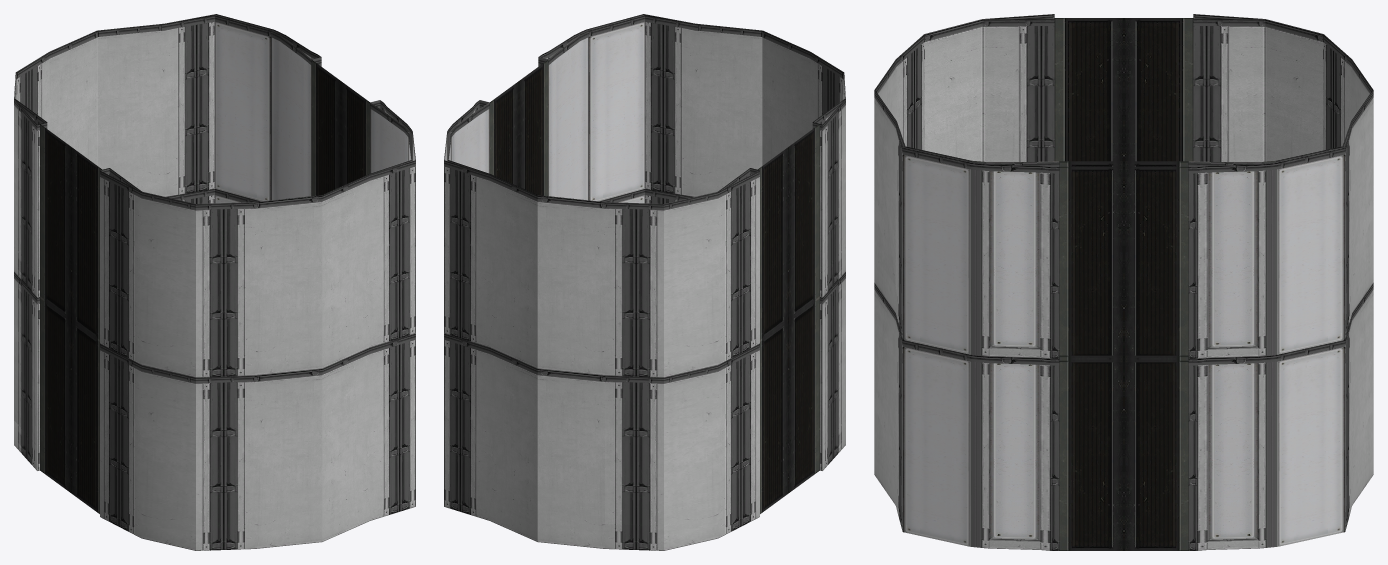
The model's file is Pre_Elevator_entb02_LOW.FBX.
3 renders of one model, left to right at view 1: azimuth 30°, elevation 25°; view 2: azimuth 150°, elevation 25°; view 3: azimuth 270°, elevation 25°, orthographic. The views are drawn at different scales.
Visible parts, largest first — view 1: Pre_Elevator_entb02_LOW; view 2: Pre_Elevator_entb02_LOW; view 3: Pre_Elevator_entb02_LOW.
Part boxes in pixels (x1,y1,x2,y2): Pre_Elevator_entb02_LOW: [14, 14, 415, 550]; Pre_Elevator_entb02_LOW: [444, 14, 845, 550]; Pre_Elevator_entb02_LOW: [874, 14, 1373, 550].
Size of the model in its own units: 6.82 by 8 by 9.43.
